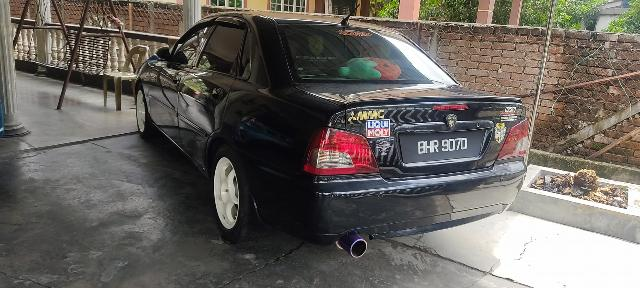License_Plate: (407, 134, 481, 159)
car: (136, 5, 532, 262)
